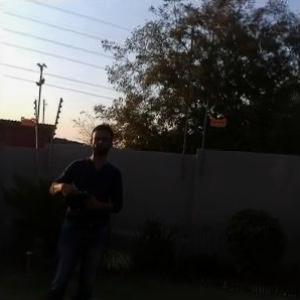follow: (37, 111, 127, 299)
